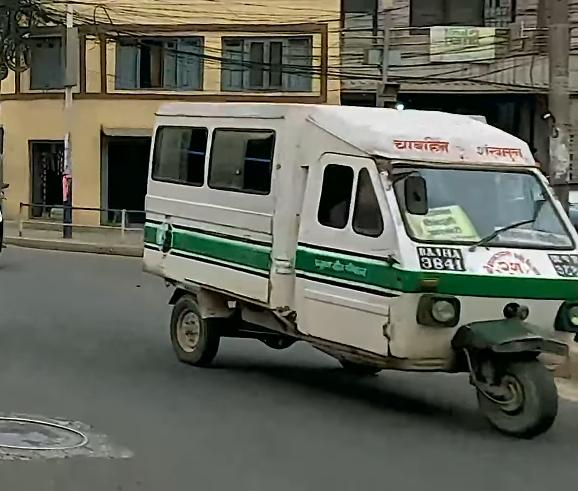tempo: (143, 96, 578, 440)
